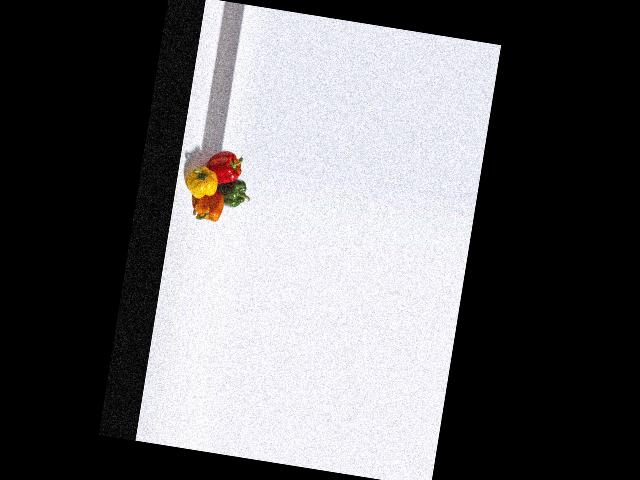bell_pepper: (204, 147, 247, 186)
